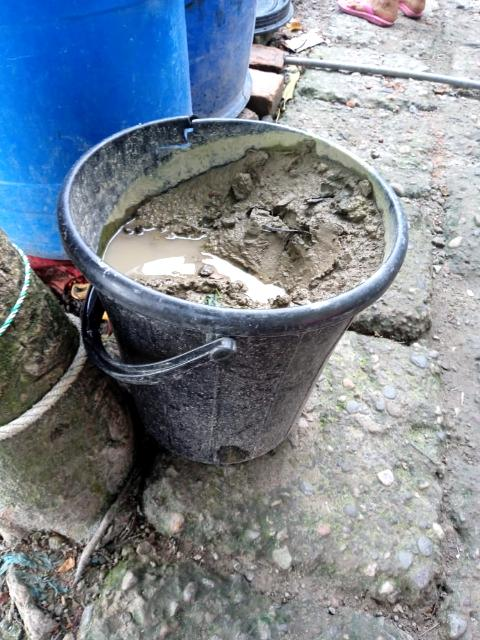hardplastic: (59, 278, 392, 483), (0, 0, 280, 235)
